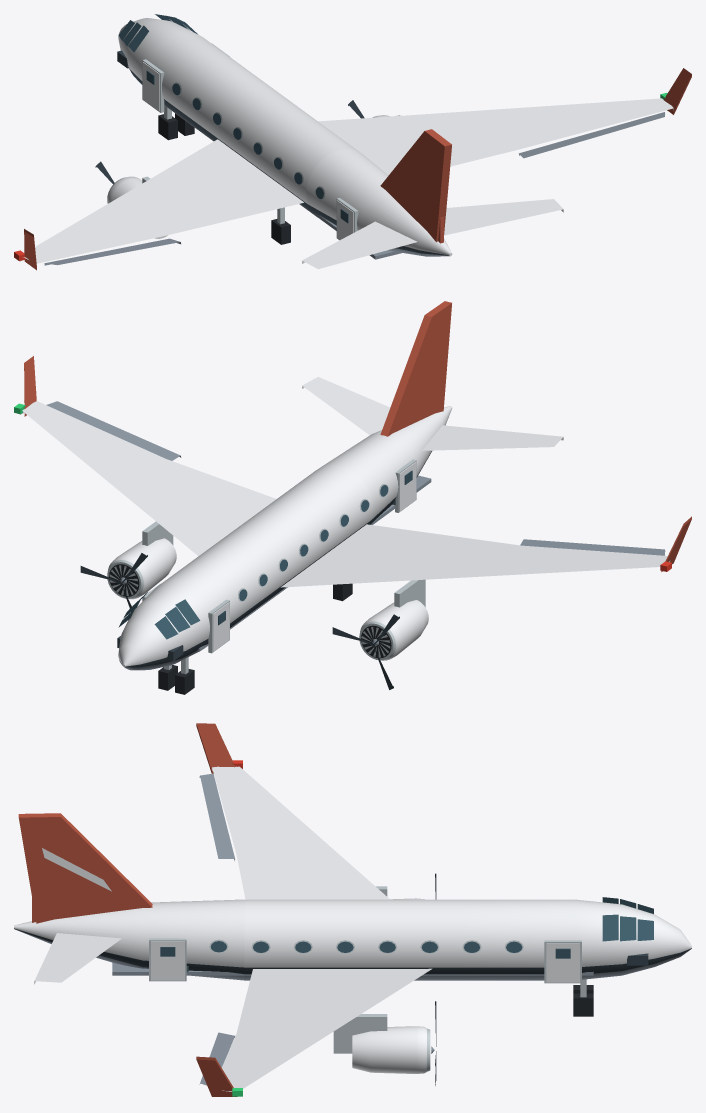
The model's file is solace.glb.
The picture shows the model from 3 angles, top to bottom: view 1: azimuth 30°, elevation 25°; view 2: azimuth 150°, elevation 25°; view 3: azimuth 270°, elevation 25°; orthographic projection. The views are drawn at different scales.
Visible parts, largest first — view 1: wing_l, wing_r, body_mid, body_front, body_aft, elevator, tail, doors, gear, aileron_r, cabin_windows, windshield (+2 smaller); view 2: wing_l, wing_r, body_front, body_mid, tail, body_aft, elevator, engine_l, engine_r, doors, aileron_r, gear (+3 smaller); view 3: body_mid, wing_r, body_front, wing_l, body_aft, tail, engine_r, doors, elevator, cabin_windows, windshield, aileron_l (+2 smaller).
Part boxes in pixels (box(x1,y1,x2,y2)): wing_l: box(14, 139, 303, 270); wing_r: box(318, 68, 691, 175); body_mid: box(201, 72, 360, 215); body_front: box(118, 18, 255, 138); body_aft: box(306, 149, 452, 256); elevator: box(302, 199, 563, 269); tail: box(380, 129, 451, 242); doors: box(142, 43, 358, 240); gear: box(158, 105, 290, 244); aileron_r: box(518, 112, 664, 158); cabin_windows: box(172, 82, 325, 199); windshield: box(118, 14, 197, 52); wing_l: box(281, 516, 691, 587); wing_r: box(14, 356, 276, 555); body_front: box(118, 541, 268, 670); body_mid: box(214, 465, 373, 607); tail: box(380, 301, 451, 436); body_aft: box(321, 406, 452, 524); elevator: box(302, 377, 563, 450); engine_l: box(359, 579, 428, 660); engine_r: box(107, 521, 176, 599); doors: box(142, 459, 416, 653); aileron_r: box(46, 401, 181, 460); gear: box(158, 583, 352, 694); body_mid: box(244, 899, 461, 980); wing_r: box(196, 968, 432, 1096); body_front: box(461, 899, 691, 980); wing_l: box(196, 723, 389, 899); body_aft: box(14, 899, 244, 980); tail: box(18, 813, 152, 923); engine_r: box(333, 1014, 434, 1073); doors: box(149, 938, 581, 983); elevator: box(34, 933, 121, 984); cabin_windows: box(209, 939, 523, 953); windshield: box(602, 897, 653, 941); aileron_l: box(199, 773, 234, 860).
Size of the model in its own units: 16.32 by 4.91 by 14.
